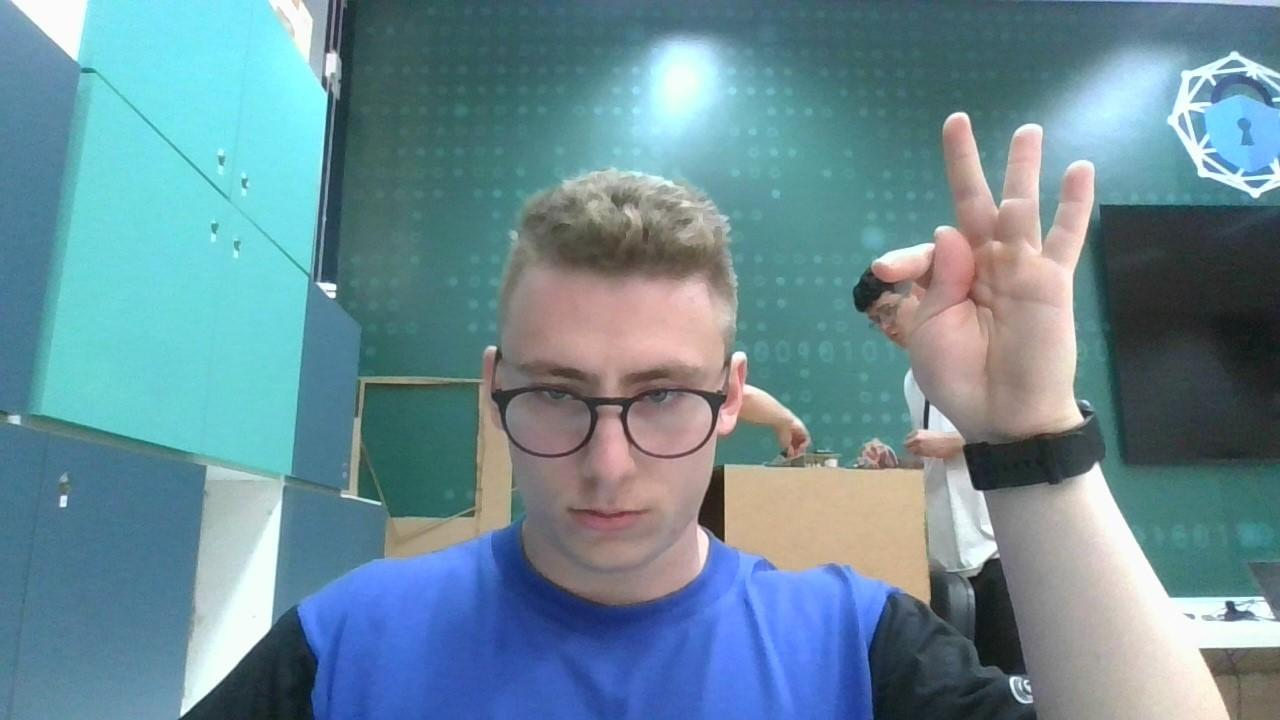T: (864, 114, 1104, 446)
